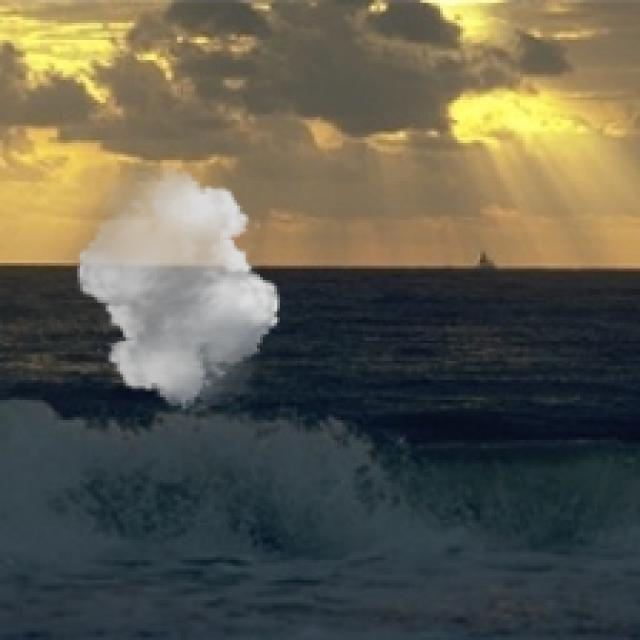smoke: (69, 166, 288, 411)
